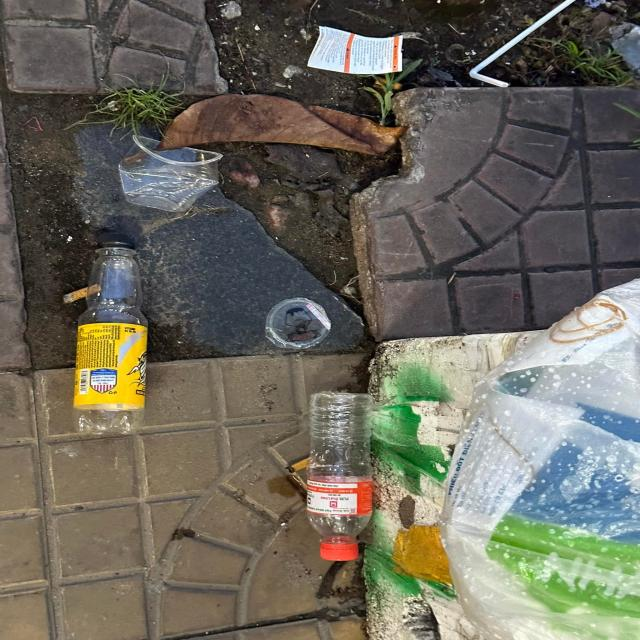bottle: (73, 232, 148, 434), (306, 391, 377, 562)
drinking straw: (468, 0, 575, 90)
lid: (265, 298, 331, 349)
paper: (308, 26, 405, 76)
plastic glass: (117, 135, 227, 213)
trash bag: (438, 278, 640, 640)
